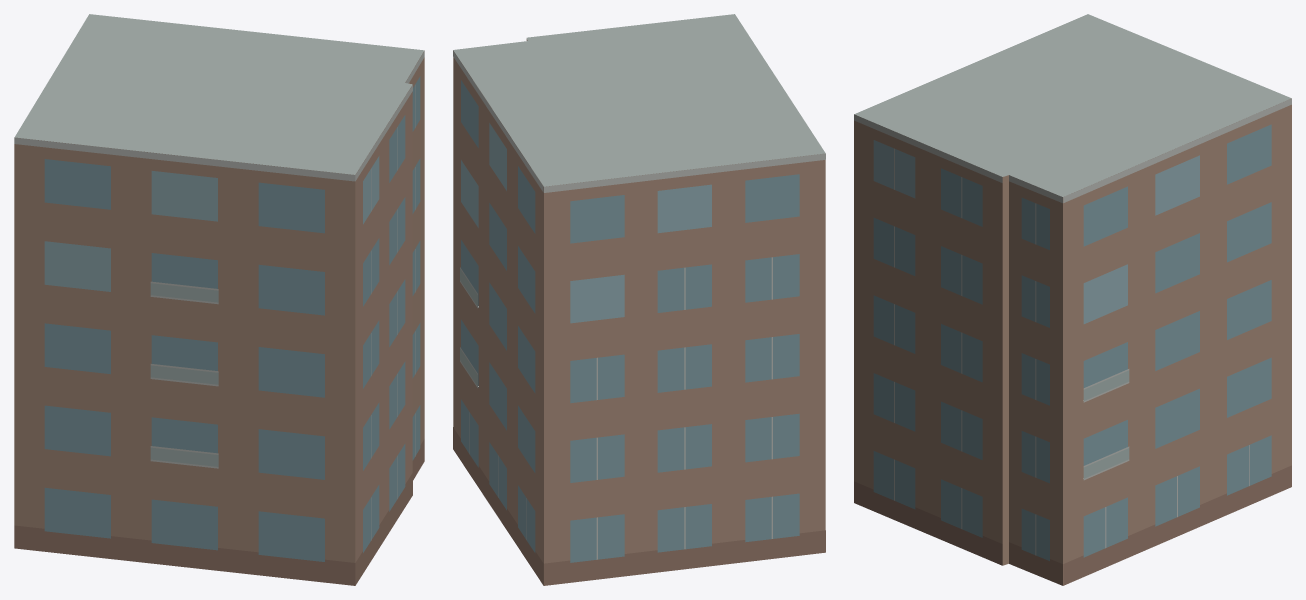
File: survey-upis-32950226.glb
3 views of the same model, side by side, from view 1: azimuth 30°, elevation 25°; view 2: azimuth 150°, elevation 25°; view 3: azimuth 270°, elevation 25° (orthographic). The views are drawn at different scales.
Visible parts, largest first — view 1: survey-upis-32950226.tmp; view 2: survey-upis-32950226.tmp; view 3: survey-upis-32950226.tmp.
Part boxes in pixels (box(x1,y1,x2,y2)): survey-upis-32950226.tmp: box(14, 14, 424, 585); survey-upis-32950226.tmp: box(453, 14, 825, 585); survey-upis-32950226.tmp: box(854, 14, 1291, 585).
Bounding box in the file's own units: 15.42 × 15.25 × 15.57.
